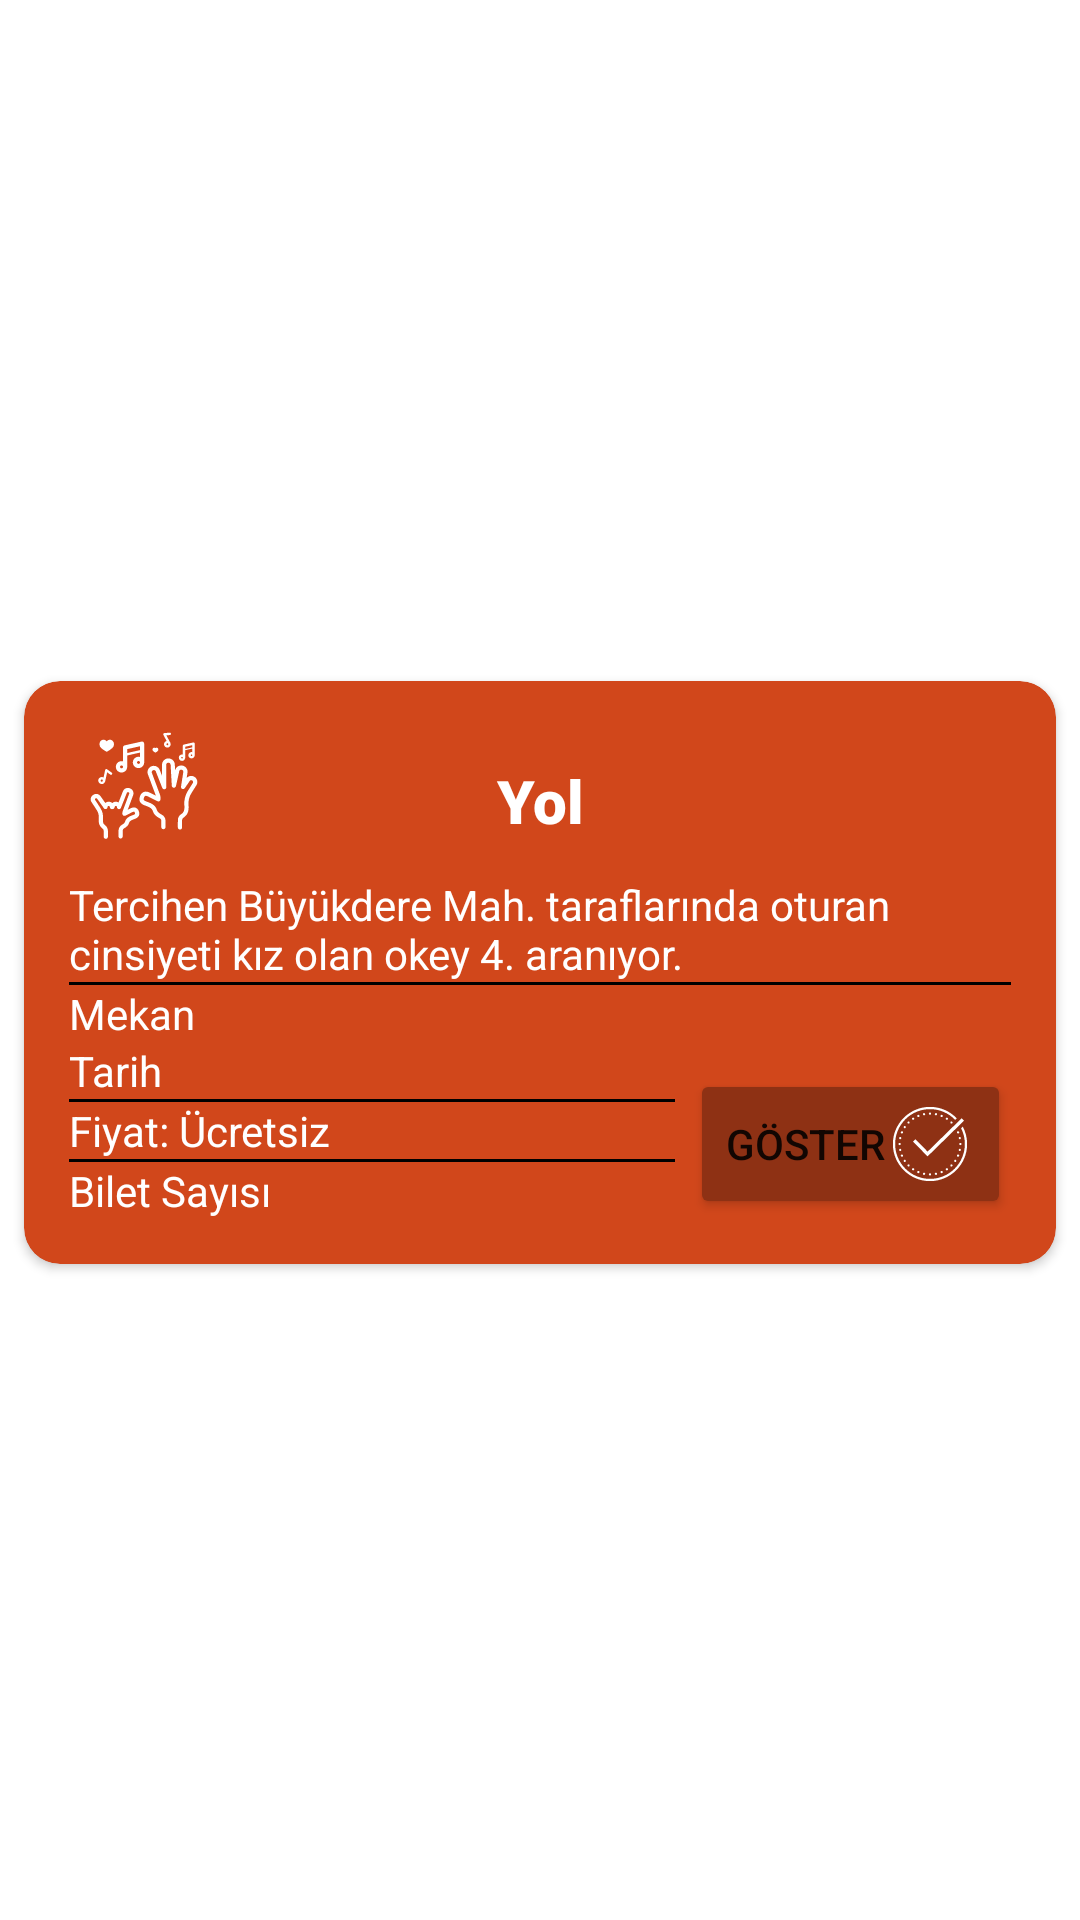

Named icons in this screenshot (1080 × 1920) and their centers, point (x, y):
party activities: point (144, 785)
